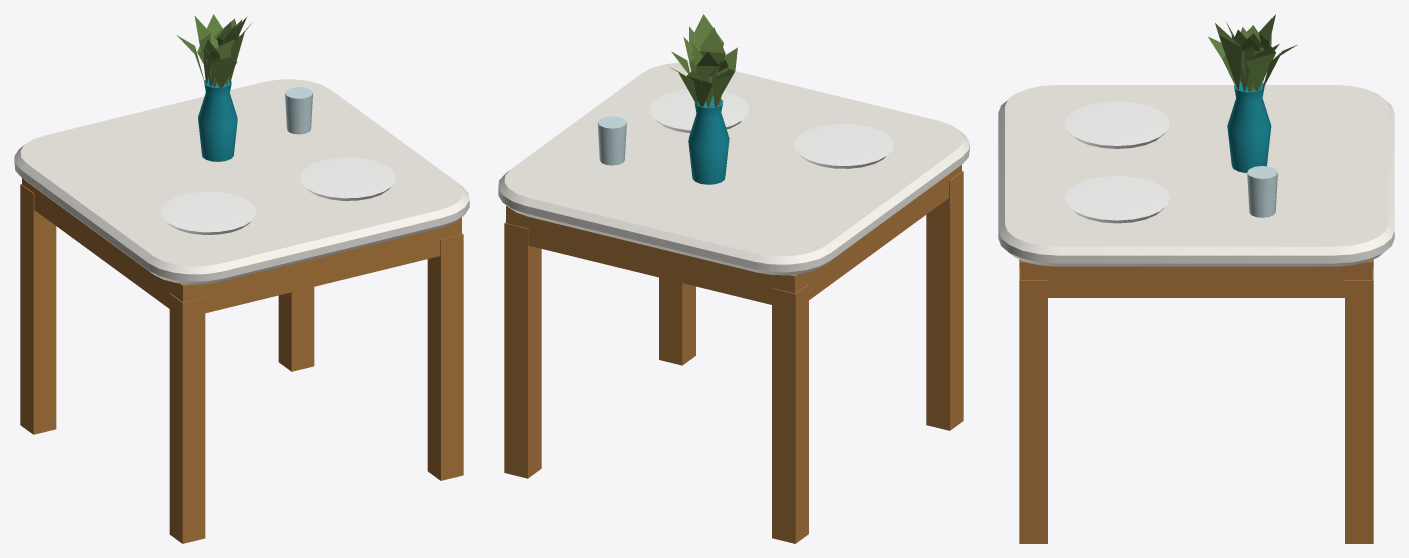
Rendered from table.glb.
3 renders of one model, left to right at view 1: azimuth 30°, elevation 25°; view 2: azimuth 150°, elevation 25°; view 3: azimuth 270°, elevation 25°, orthographic. The views are drawn at different scales.
Parts seen in each view (by area): view 1: white0, wood1, wood3, wood5, wood2, plate7, plate6, wood4, leaf9, teal8, glassware10; view 2: white0, wood1, wood2, wood4, wood3, plate6, leaf9, wood5, teal8, plate7, glassware10; view 3: white0, wood1, wood4, wood5, plate6, plate7, leaf9, teal8, glassware10.
Boxes of the visible parts, x1,y1,x2,y2 form: white0: (14,79,469,284); wood1: (22,178,461,313); wood3: (169,293,205,543); wood5: (427,233,463,480); wood2: (20,184,56,434); plate7: (300,157,395,200); plate6: (160,191,256,234); wood4: (278,287,314,371); leaf9: (176,14,253,87); teal8: (198,78,237,161); glassware10: (285,87,312,134); white0: (498,62,969,275); wood1: (506,165,961,304); wood2: (772,284,808,543); wood4: (504,222,541,478); wood3: (926,171,963,430); plate6: (794,124,893,168); leaf9: (669,14,737,107); wood5: (659,277,695,365); teal8: (688,96,729,184); plate7: (649,89,748,133); glassware10: (597,116,626,165); white0: (998,85,1394,266); wood1: (1020,260,1372,297); wood4: (1345,268,1373,543); wood5: (1019,268,1047,543); plate6: (1064,101,1169,148); plate7: (1064,176,1169,223); leaf9: (1208,14,1296,91); teal8: (1227,82,1271,172); glassware10: (1247,166,1277,217).
Size of the model in its own units: 0.9 by 1.15 by 0.9.
